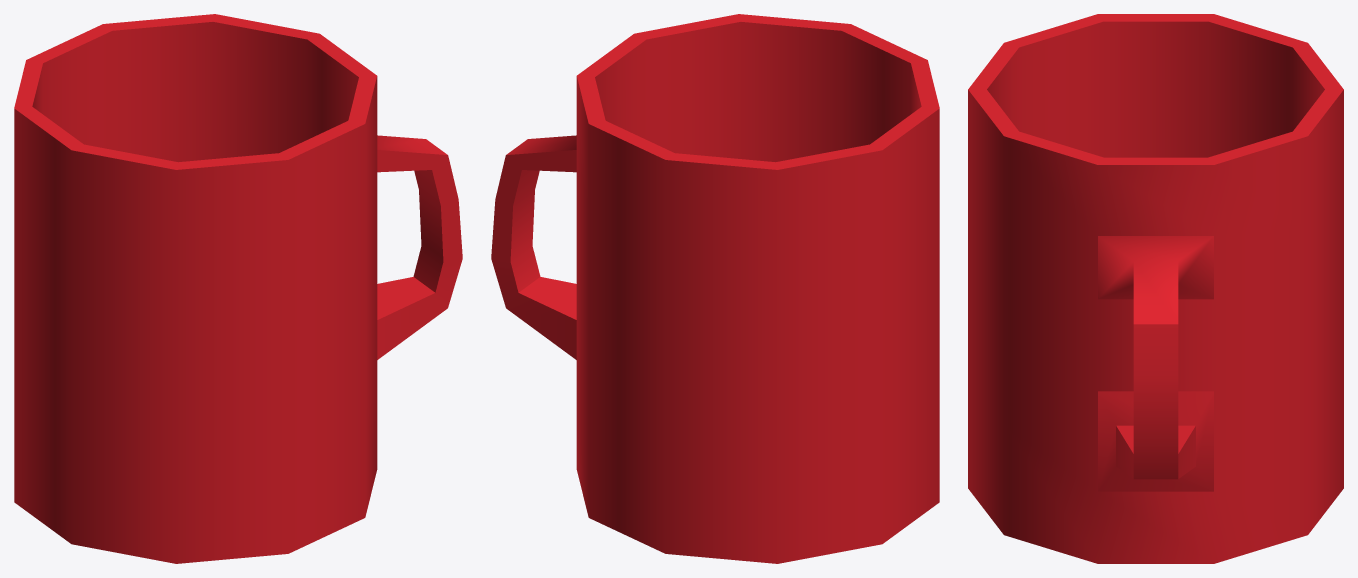
File: Cup.fbx
3 renders of one model, left to right at view 1: azimuth 30°, elevation 25°; view 2: azimuth 150°, elevation 25°; view 3: azimuth 270°, elevation 25°, orthographic.
Parts seen in each view (by area): view 1: Circle; view 2: Circle; view 3: Circle.
Part boxes in pixels (x1=…): Circle: x1=14, y1=14, x2=462, y2=563; Circle: x1=491, y1=14, x2=939, y2=563; Circle: x1=968, y1=14, x2=1343, y2=563.
Bounding box in the file's own units: 254 × 234 × 200.
